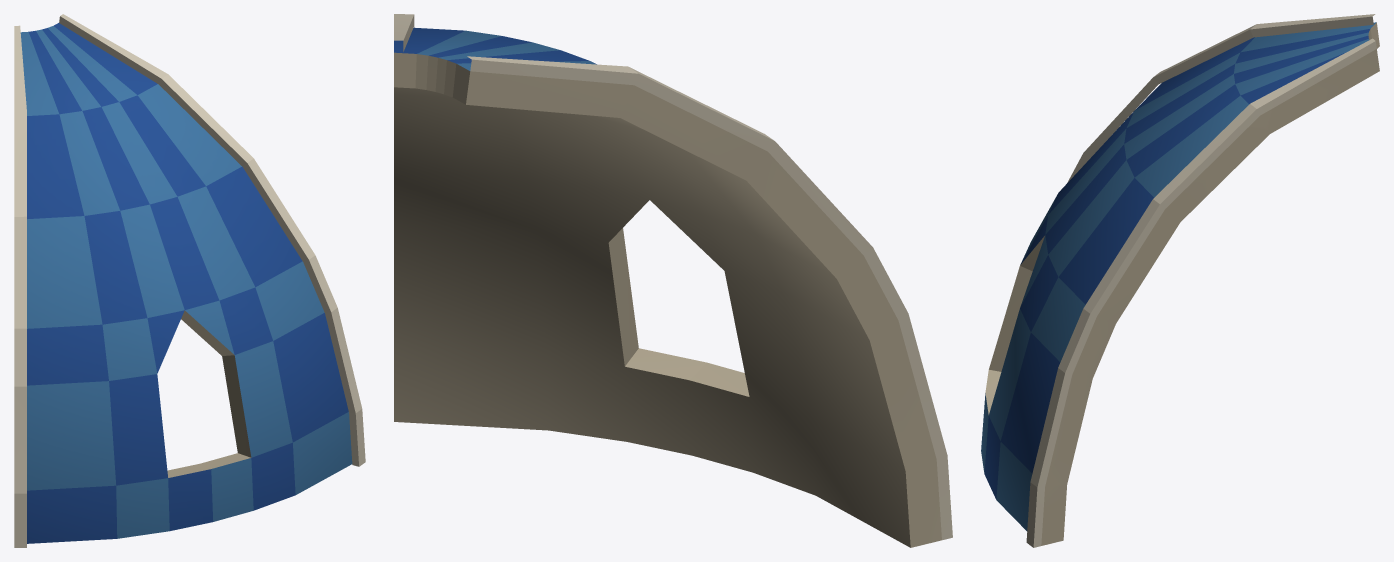
The model's file is dome.panel_6_window.blue.glb.
3 renders of one model, left to right at view 1: azimuth 30°, elevation 25°; view 2: azimuth 150°, elevation 25°; view 3: azimuth 270°, elevation 25°, orthographic. The views are drawn at different scales.
Visible parts, largest first — view 1: dome_panel_6_window_blue; view 2: dome_panel_6_window_blue; view 3: dome_panel_6_window_blue.
Boxes of the visible parts, <box> form: dome_panel_6_window_blue: <box>14,14,365,547</box>; dome_panel_6_window_blue: <box>394,14,952,547</box>; dome_panel_6_window_blue: <box>981,14,1379,547</box>.
Size of what is drawn, in the model's own units: 3.57 by 3.63 by 3.1.
